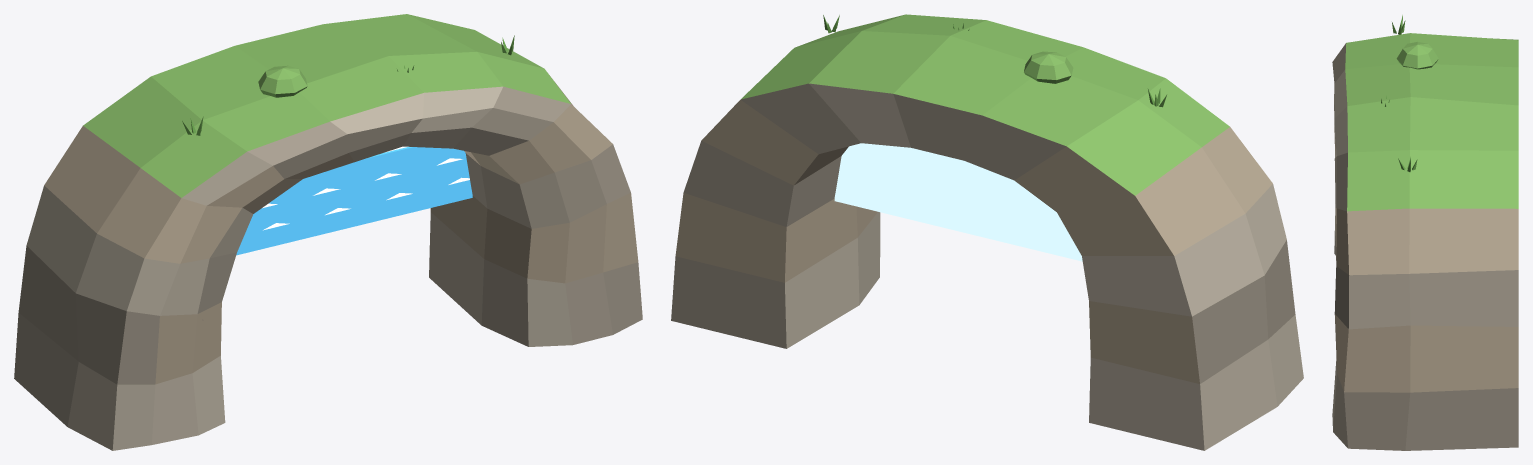
File: sea-arch.glb
The picture shows the model from 3 angles, left to right: view 1: azimuth 30°, elevation 25°; view 2: azimuth 150°, elevation 25°; view 3: azimuth 270°, elevation 25°; orthographic projection. The views are drawn at different scales.
Parts seen in each view (by area): view 1: sea-arch; view 2: sea-arch; view 3: sea-arch.
Boxes of the visible parts, x1=… form: sea-arch: x1=14, y1=14, x2=642, y2=450; sea-arch: x1=671, y1=14, x2=1303, y2=450; sea-arch: x1=1332, y1=15, x2=1518, y2=450.
Bounding box in the file's own units: 60 × 31.5 × 20.
